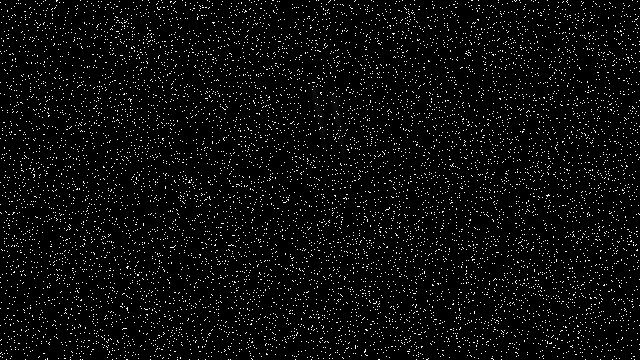pot: (208, 164, 311, 267)
